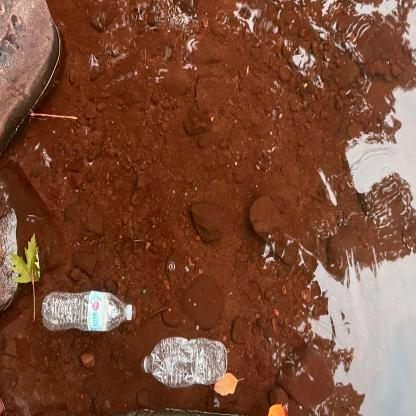Plastic: (38, 284, 138, 339), (139, 334, 234, 390)
